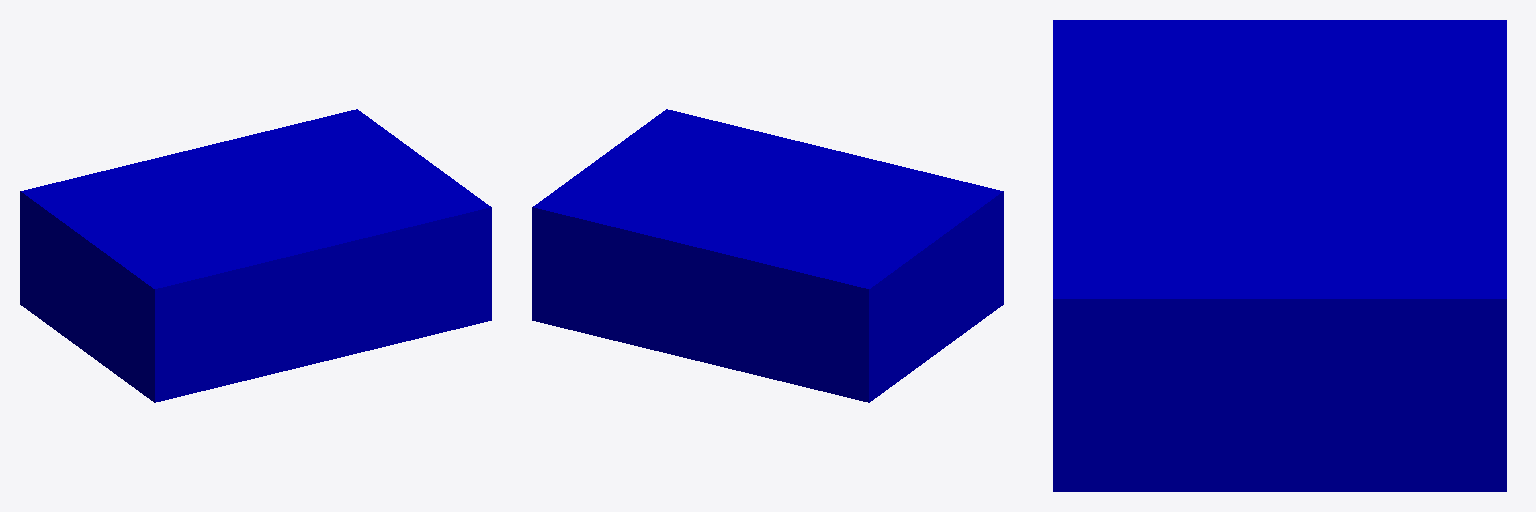
URDF robot description (smartcar):
<?xml version="1.0"?>
<robot name="smartcar">

  <link name="base_link">  
    <visual>  
      <geometry>  
        <box size="0.1224 0.0844 0.0394"/>
    </geometry>  
    <origin rpy="0 0 0" xyz="0 0 0.03193"/>  
    <material name="blue">  
        <color rgba="0 0 .8 1"/>  
    </material>  
    </visual>  
  </link>

  <link name="base_footprint"/>

    <joint name="base_footprint_joint" type="fixed">
      <origin xyz="0 0 0.01224" rpy="0 0 0" />
      <parent link="base_link" />
      <child link="base_footprint" />
  </joint>

  <link name="laser"/>
    <joint name="laser_joint" type="fixed">
        <origin xyz="0.0612 0 0.3" rpy="0 0 0" />
        <parent link="base_link" />
        <child link="laser" />
   </joint>

</robot>

--- What the picture shows (computed from the rendered views, not written in the file) ---
The picture shows the robot from 3 angles, left to right: view 1: azimuth 30°, elevation 25°; view 2: azimuth 150°, elevation 25°; view 3: azimuth 270°, elevation 25°; orthographic projection.
Robot: smartcar — 3 links, 2 joints (2 fixed); root link base_link; default pose: all joints at 0.
Visible links, largest first — view 1: base_link; view 2: base_link; view 3: base_link.
Boxes of the visible links, box(x1,y1,x2,y2) form: base_link: box(20, 109, 491, 402); base_link: box(532, 109, 1003, 402); base_link: box(1053, 20, 1506, 491).
Bounding box of the posed robot: 0.1224 × 0.0844 × 0.0394 m (x, y, z).
Geometry: primitives only (box / cylinder / sphere), no mesh files.
